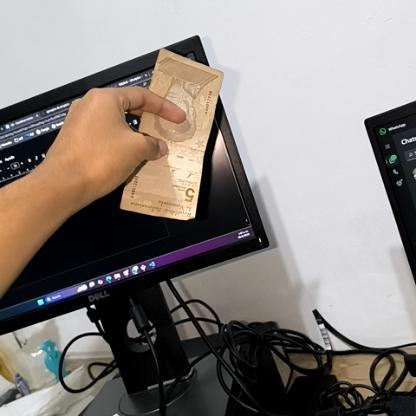five-front-vef: (120, 49, 223, 218)
